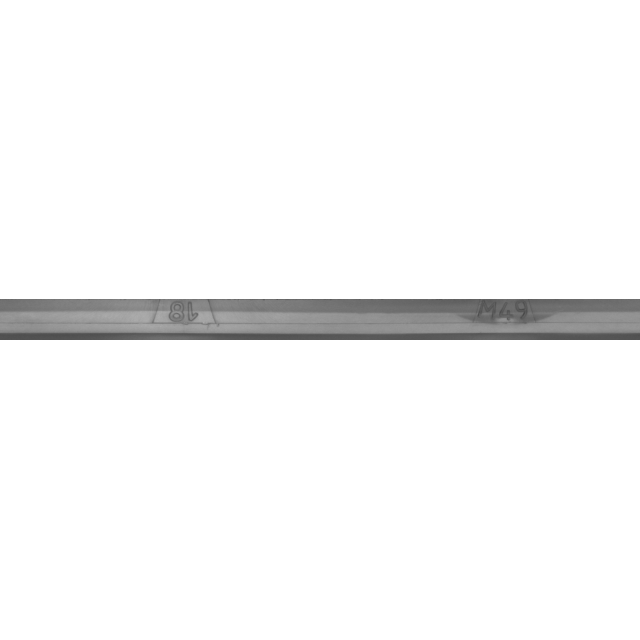mohao: (402, 270, 602, 370)
xuehao: (79, 270, 279, 370)
